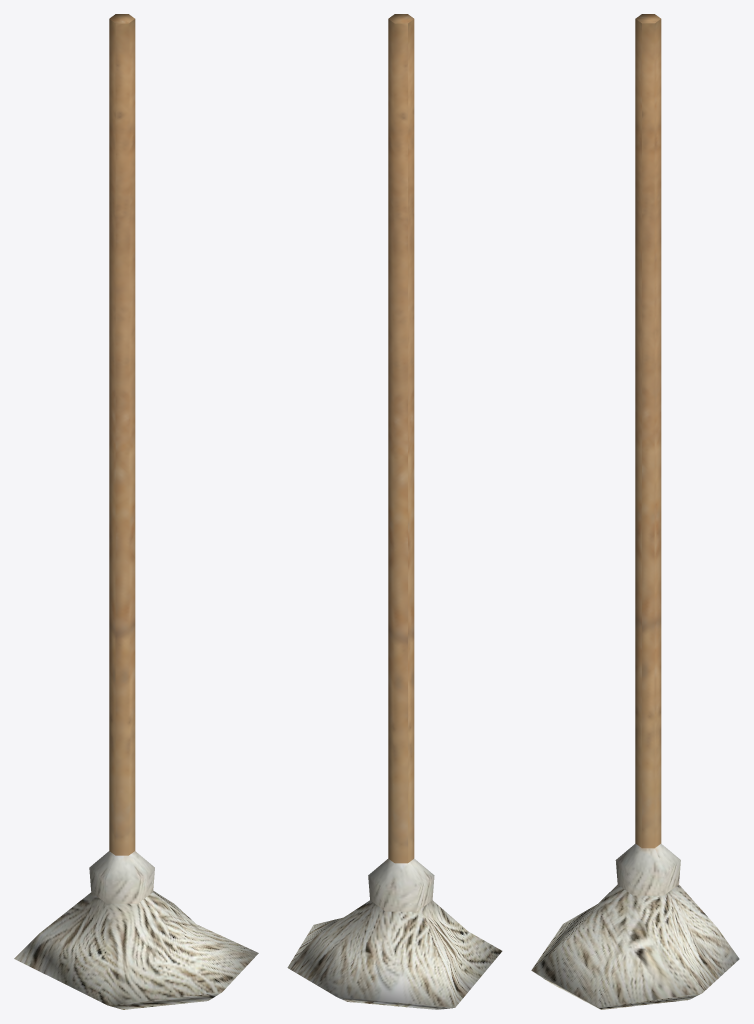
File: Mop.dae
3 renders of one model, left to right at view 1: azimuth 30°, elevation 25°; view 2: azimuth 150°, elevation 25°; view 3: azimuth 270°, elevation 25°, orthographic.
Parts seen in each view (by area): view 1: Mop; view 2: Mop; view 3: Mop.
Boxes of the visible parts, box(x1,y1,x2,y2) form: Mop: box(14, 14, 258, 1009); Mop: box(287, 14, 502, 1009); Mop: box(531, 14, 739, 1009).
Size of the model in its own units: 0.3441 by 0.3255 by 1.63.
Materials: 1 (1 with a texture image).
